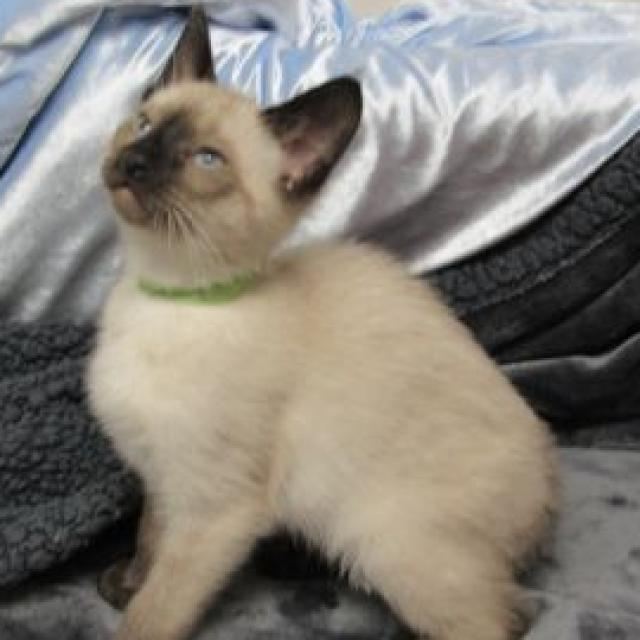Siamese: (78, 0, 564, 640)
